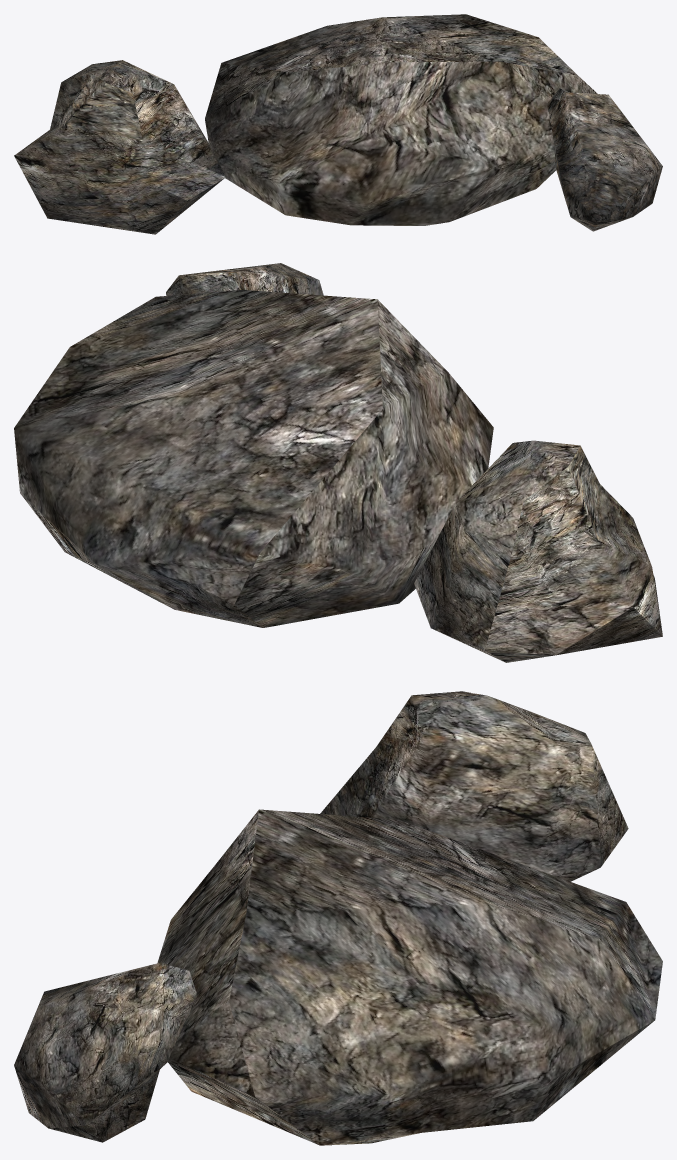
Rendered from pir_m_prp_cav_rockGroup_l.fbx.
3 views of the same model, one above another, from view 1: azimuth 30°, elevation 25°; view 2: azimuth 150°, elevation 25°; view 3: azimuth 270°, elevation 25° (orthographic). The views are drawn at different scales.
Visible parts, largest first — view 1: rock_2, rock_1, rock_3; view 2: rock_2, rock_1, rock_3; view 3: rock_2, rock_1, rock_3.
Boxes of the visible parts, x1,y1,x2,y2 form: rock_2: [205, 14, 597, 225]; rock_1: [14, 60, 225, 234]; rock_3: [547, 88, 662, 231]; rock_2: [14, 290, 493, 627]; rock_1: [414, 440, 662, 662]; rock_3: [166, 263, 323, 295]; rock_2: [157, 809, 662, 1145]; rock_1: [320, 691, 628, 881]; rock_3: [14, 962, 196, 1142].
Size of the model in its own units: 1112 by 370 by 875.
1 material, 1 textured.
